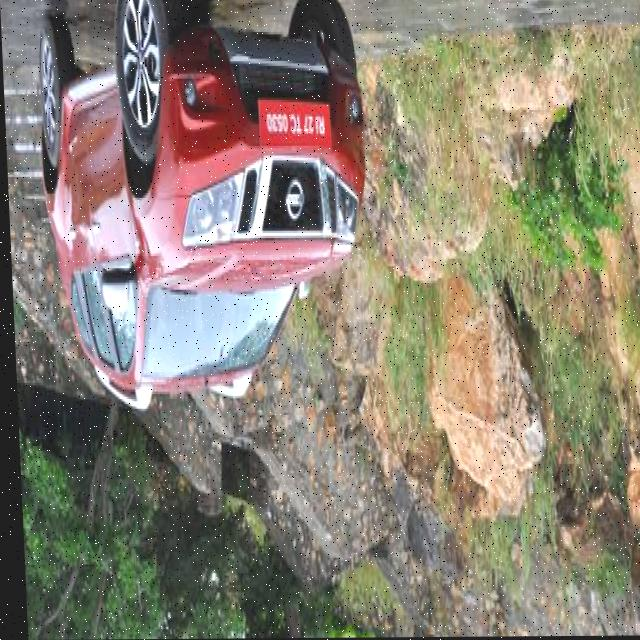plate: (258, 100, 331, 154)
